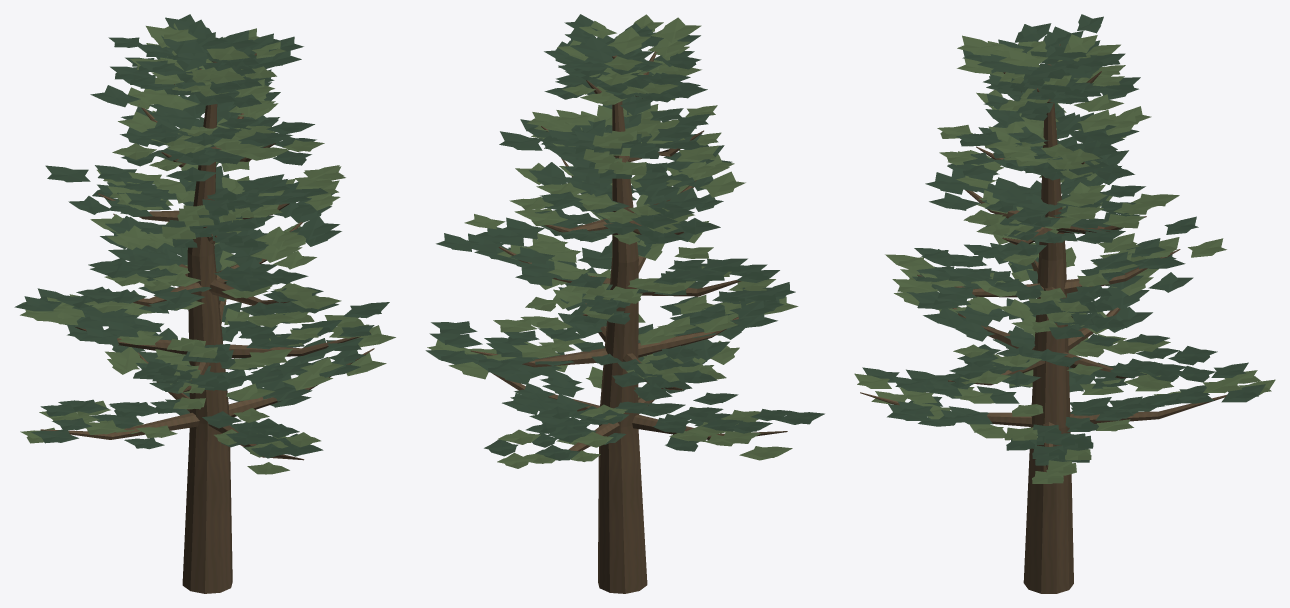
The model's file is NA_Pine_1.glb.
The picture shows the model from 3 angles, left to right: view 1: azimuth 30°, elevation 25°; view 2: azimuth 150°, elevation 25°; view 3: azimuth 270°, elevation 25°; orthographic projection.
Parts seen in each view (by area): view 1: NA_Pine_1; view 2: NA_Pine_1; view 3: NA_Pine_1.
Boxes of the visible parts, left/top/right/bottom form: NA_Pine_1: left=14, top=14, right=395, bottom=593; NA_Pine_1: left=425, top=14, right=824, bottom=593; NA_Pine_1: left=854, top=14, right=1275, bottom=593.
Size of the model in its own units: 2.34 by 3.28 by 2.35.
3 materials, 1 textured.
